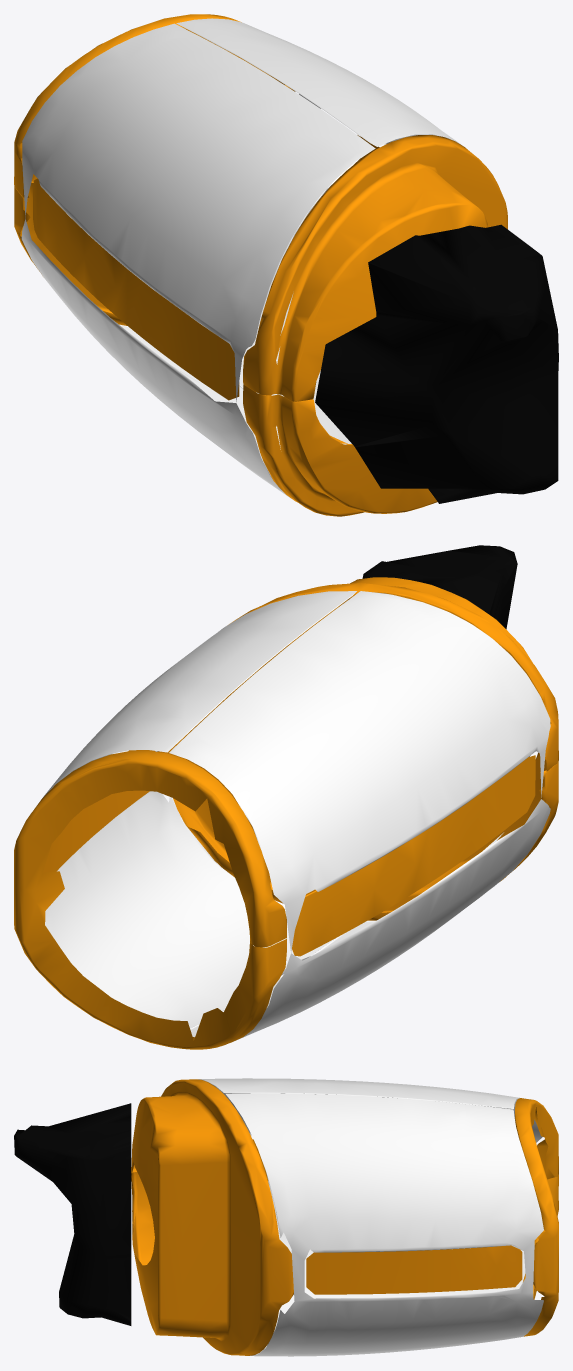
Rendered from sim_ecub_l_forearm.obj.
3 renders of one model, top to bottom at view 1: azimuth 30°, elevation 25°; view 2: azimuth 150°, elevation 25°; view 3: azimuth 270°, elevation 25°, orthographic. The views are drawn at different scales.
Bounding box in the file's own units: 106 × 106 × 209.
